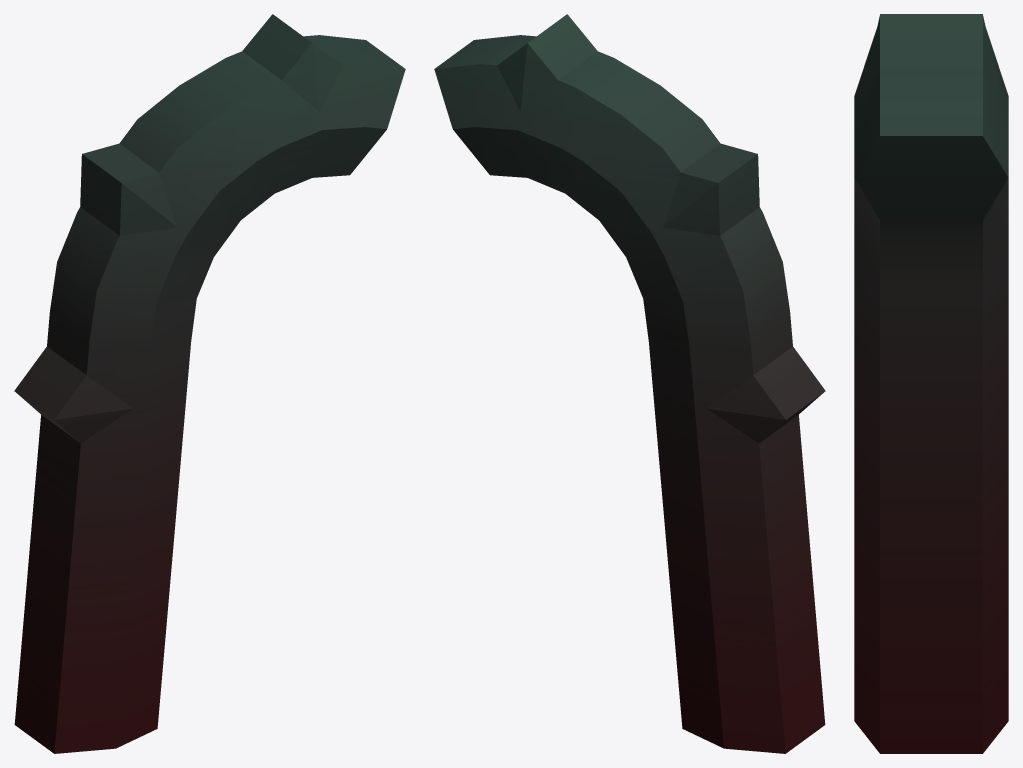
The model's file is SM_Arch_Small_02.fbx.
The picture shows the model from 3 angles, left to right: view 1: azimuth 30°, elevation 25°; view 2: azimuth 150°, elevation 25°; view 3: azimuth 270°, elevation 25°; orthographic projection. The views are drawn at different scales.
Parts seen in each view (by area): view 1: SM_Arch_Small_02; view 2: SM_Arch_Small_02; view 3: SM_Arch_Small_02.
Part boxes in pixels (box(x1,y1,x2,y2)): SM_Arch_Small_02: box(14, 14, 405, 753); SM_Arch_Small_02: box(434, 14, 825, 753); SM_Arch_Small_02: box(854, 14, 1008, 753).
Size of the model in its own units: 256 by 450 by 75.
1 material, 1 textured.
